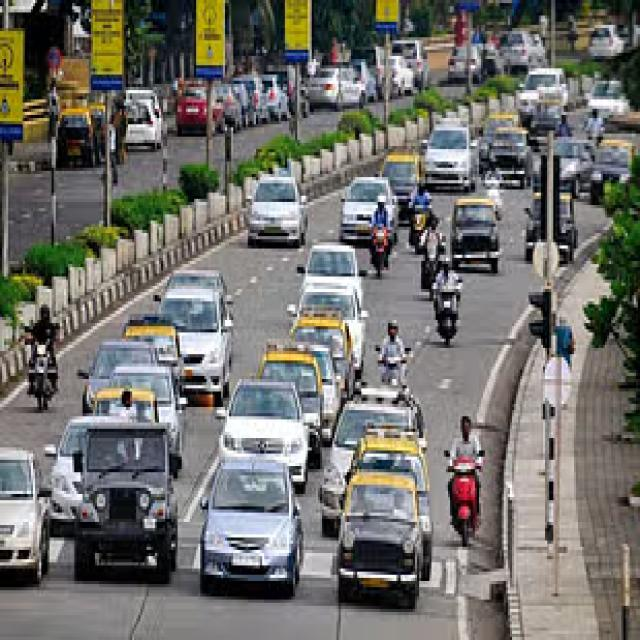Vehicles: (194, 454, 308, 617), (81, 399, 178, 585), (332, 469, 429, 621), (210, 361, 318, 495), (0, 425, 72, 596), (151, 273, 230, 398), (242, 162, 314, 273), (330, 174, 403, 254), (431, 277, 485, 383), (299, 278, 369, 355), (445, 197, 505, 282), (528, 188, 591, 268), (422, 120, 485, 196), (170, 78, 242, 140), (447, 458, 491, 547), (486, 124, 543, 189), (377, 138, 421, 213), (588, 130, 640, 193), (22, 341, 68, 410), (367, 219, 404, 299), (420, 248, 448, 308)
